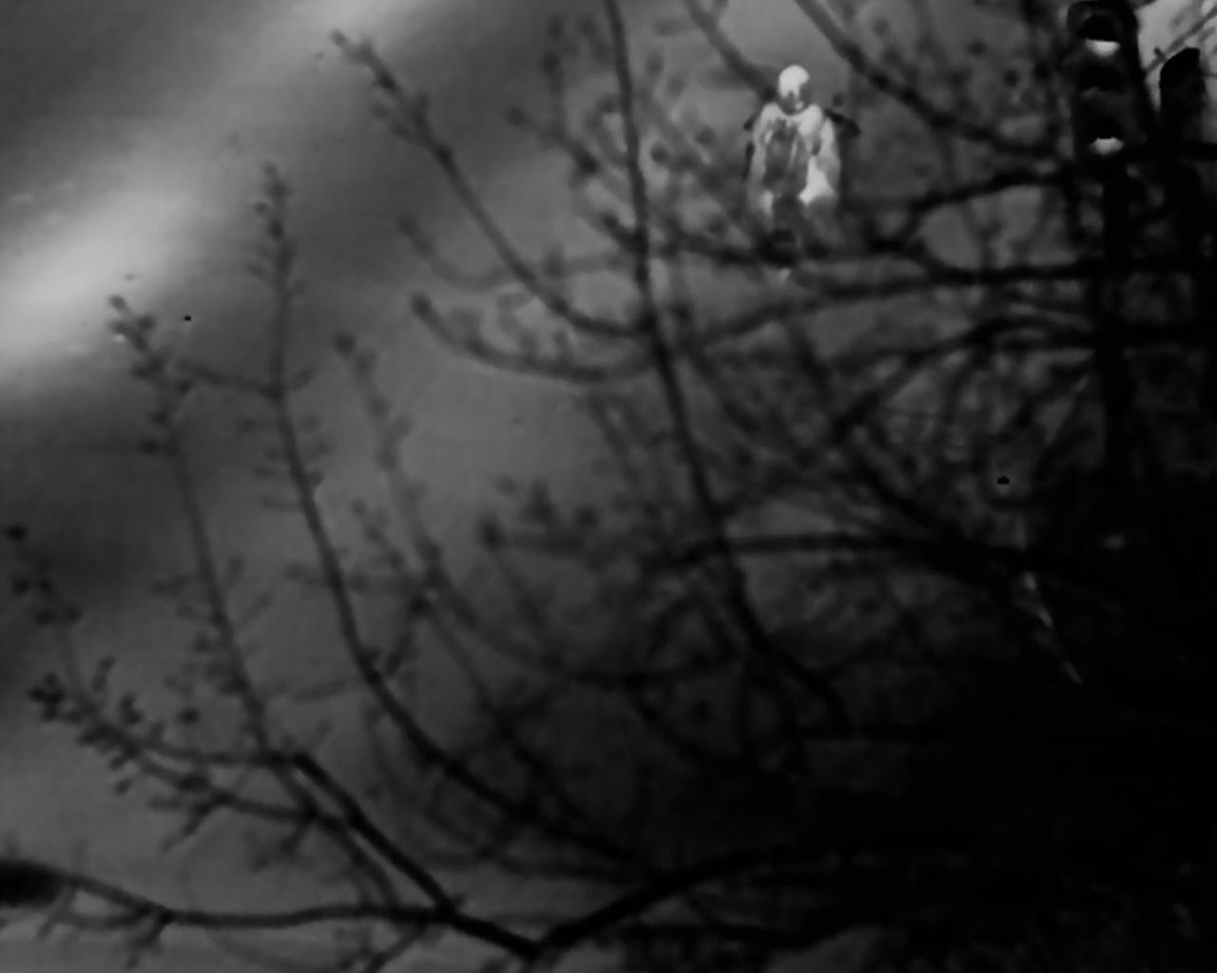person: (758, 60, 840, 231)
